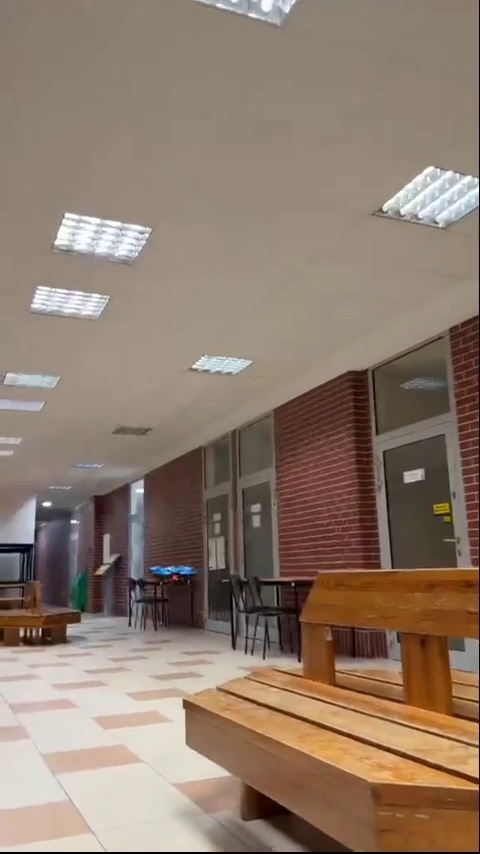drone: (150, 562, 202, 585)
